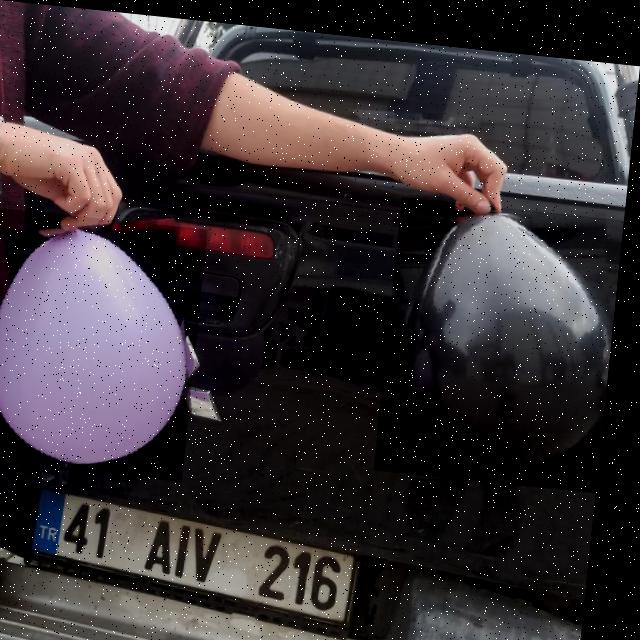balloon: (383, 188, 627, 479), (0, 206, 212, 477)
